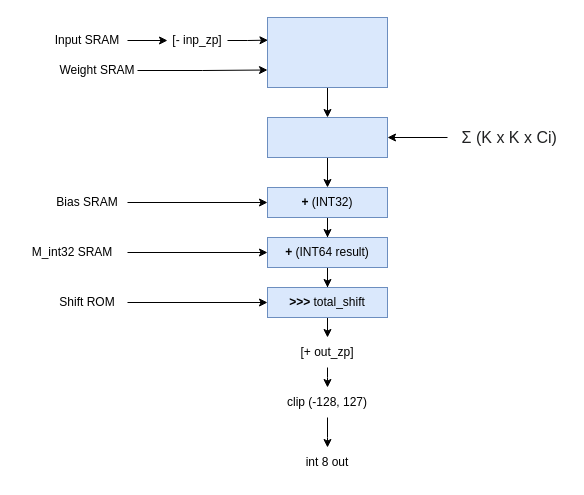
This 584x495 diagram has some shape labels left out. Each missing label, with the centre of its shape:
ACC (INT32): the point at 327,137
MUL (INT8 x INT16): the point at 327,52
